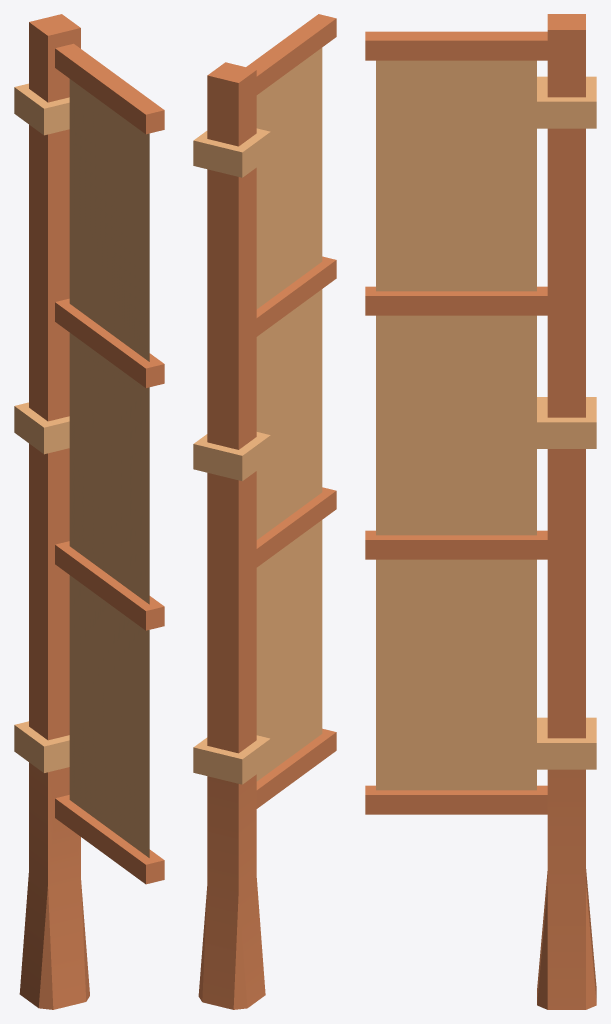
Rendered from blade.fbx.
3 renders of one model, left to right at view 1: azimuth 30°, elevation 25°; view 2: azimuth 150°, elevation 25°; view 3: azimuth 270°, elevation 25°, orthographic. The views are drawn at different scales.
Parts seen in each view (by area): view 1: blade; view 2: blade; view 3: blade.
Boxes of the visible parts, x1,y1,x2,y2 form: blade: (14,14,164,1009); blade: (193,14,336,1009); blade: (365,14,596,1009).
Size of the model in its own units: 1.11 by 20 by 4.3.
